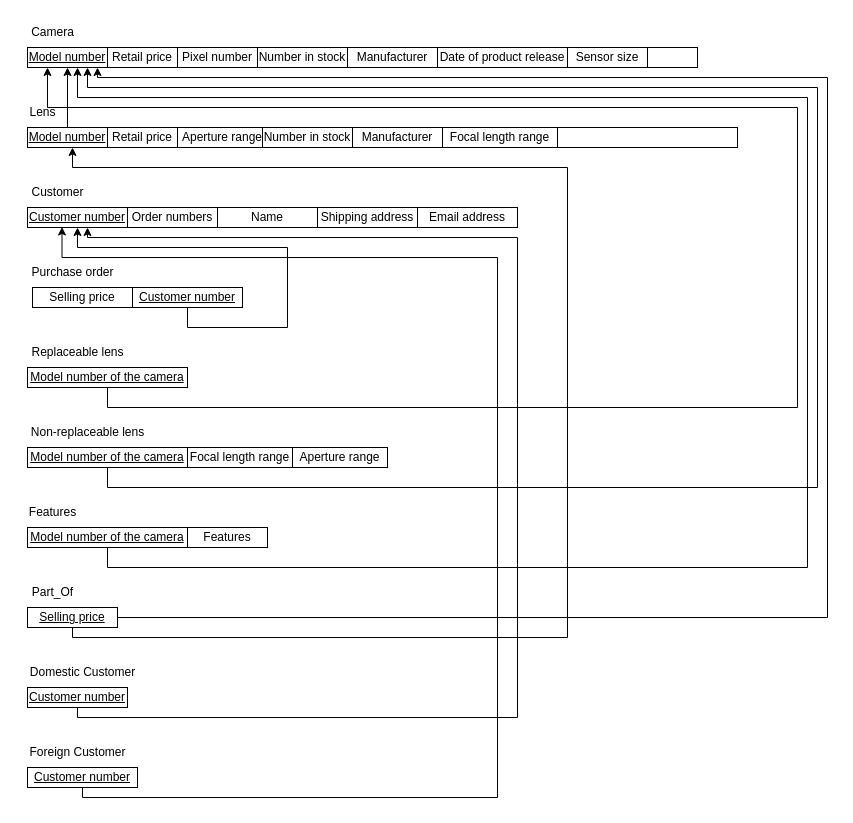
Image size: 853x823. Some labels were removed from this diagram. The centre of each missing label's shape, as x and y in pixels:
Orders: (672,57)
Replaceable lens model number: (647,137)
